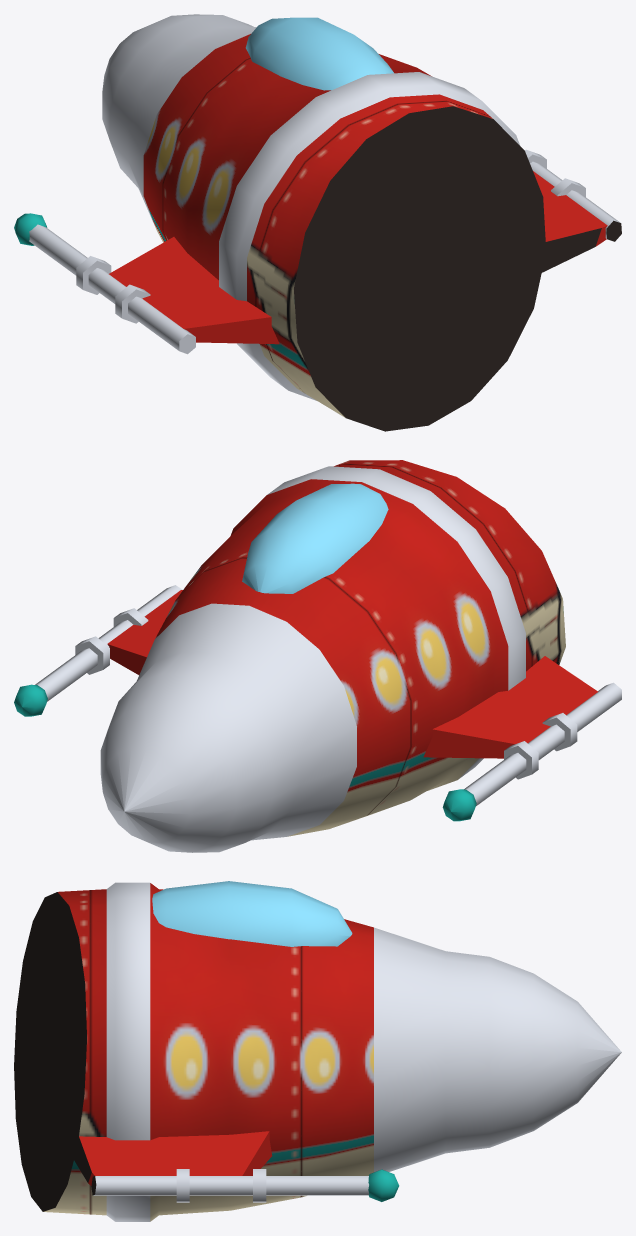
The model's file is comet_debris1.obj.
3 renders of one model, top to bottom at view 1: azimuth 30°, elevation 25°; view 2: azimuth 150°, elevation 25°; view 3: azimuth 270°, elevation 25°, orthographic. The views are drawn at different scales.
Visible parts, largest first — view 1: hull, stub, canopy, gun, gun_ring, gun_tip; view 2: hull, stub, canopy, gun, gun_ring, gun_tip; view 3: hull, canopy, stub, gun, gun_ring, gun_tip.
Boxes of the visible parts, box(x1,y1,x2,y2) form: hull: box(102, 14, 545, 431); stub: box(109, 171, 607, 344); canopy: box(245, 17, 393, 90); gun: box(29, 161, 621, 354); gun_ring: box(76, 149, 585, 323); gun_tip: box(14, 213, 47, 245); hull: box(100, 460, 565, 852); stub: box(107, 590, 597, 758); canopy: box(242, 483, 388, 593); gun: box(35, 585, 621, 805); gun_ring: box(75, 608, 577, 779); gun_tip: box(14, 684, 476, 821); hull: box(14, 882, 621, 1221); canopy: box(152, 881, 352, 946); stub: box(73, 1126, 272, 1185); gun: box(91, 1176, 368, 1195); gun_ring: box(176, 1169, 266, 1202); gun_tip: box(368, 1169, 399, 1201).
Size of the model in its own units: 4.82 by 3.23 by 5.57.
6 materials, 1 textured.
